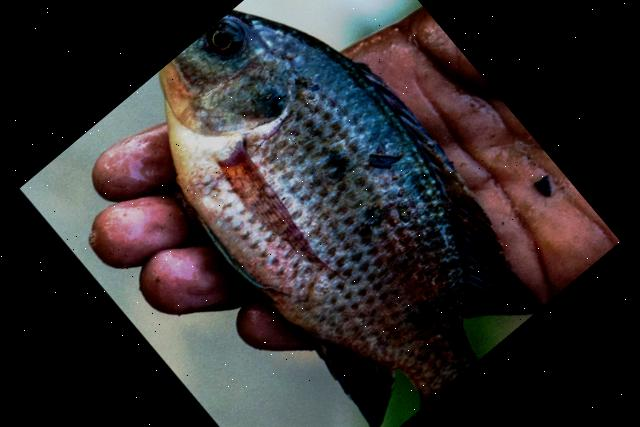Tilapia Lake Virus -TiLV-: (159, 8, 541, 427)
